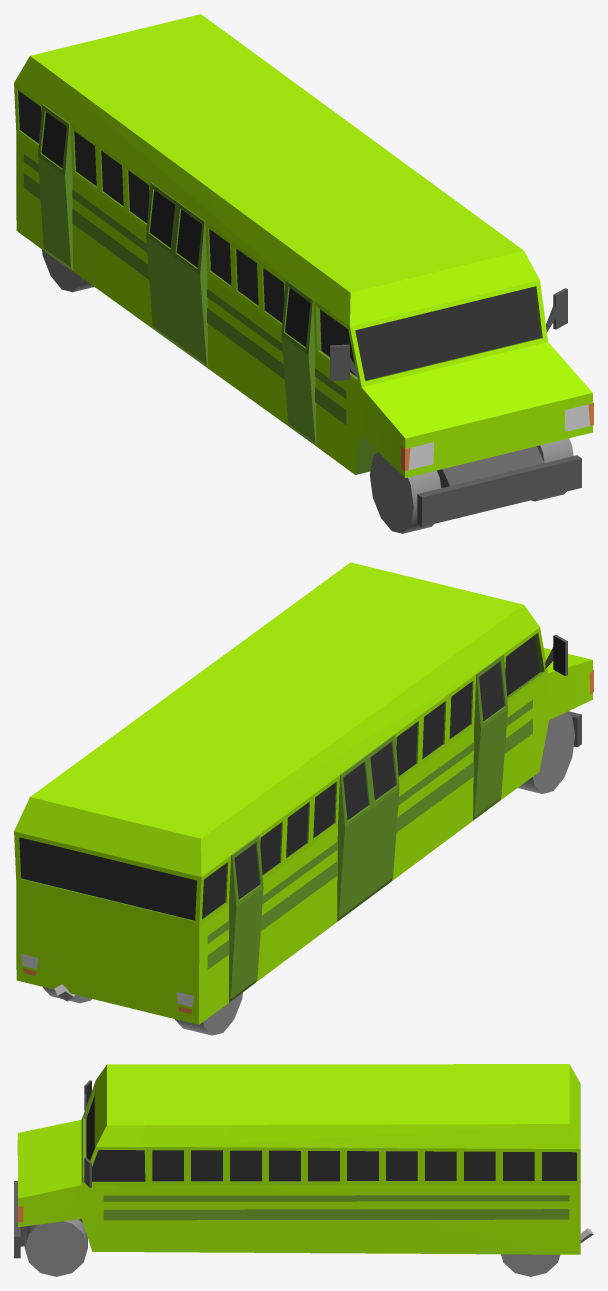
File: bus_07.fbx
3 views of the same model, one above another, from view 1: azimuth 30°, elevation 25°; view 2: azimuth 150°, elevation 25°; view 3: azimuth 270°, elevation 25° (orthographic). The views are drawn at different scales.
Parts seen in each view (by area): view 1: bus_07; view 2: bus_07; view 3: bus_07.
Boxes of the visible parts, x1,y1,x2,y2 form: bus_07: (14,14,593,533); bus_07: (14,562,593,1035); bus_07: (14,1064,593,1276).
Size of the model in its own units: 2.77 by 2.39 by 8.14.
